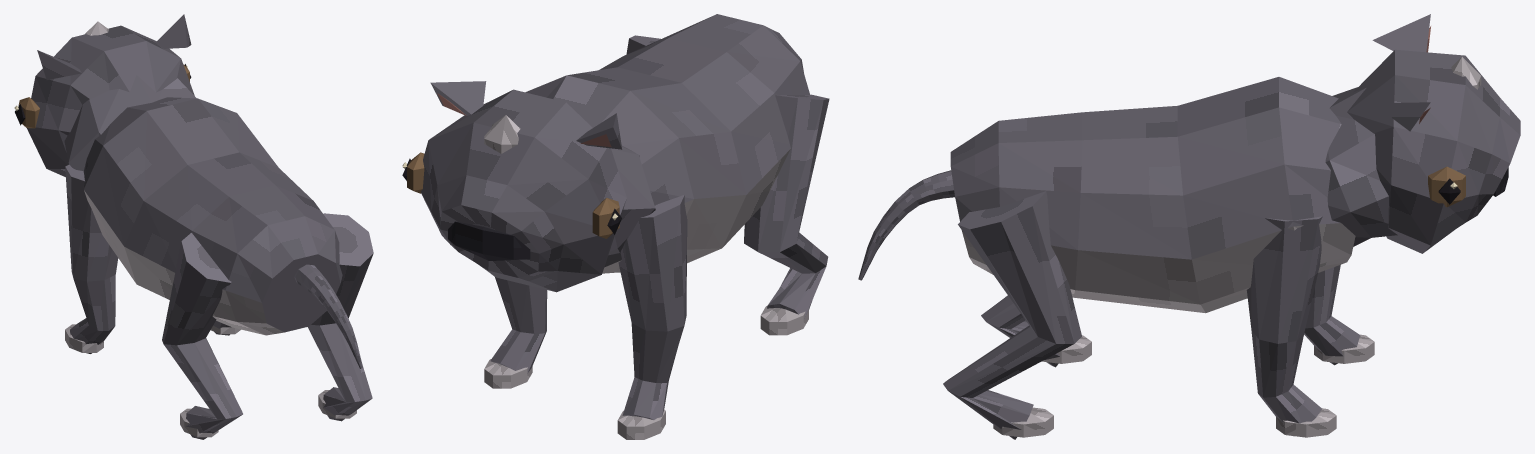
File: mon_dog_pitbullmix_pup.glb
3 renders of one model, left to right at view 1: azimuth 30°, elevation 25°; view 2: azimuth 150°, elevation 25°; view 3: azimuth 270°, elevation 25°, orthographic. The views are drawn at different scales.
Parts seen in each view (by area): view 1: closed_body; view 2: closed_body; view 3: closed_body.
Part boxes in pixels (box(x1,y1,x2,y2)): closed_body: box(14, 14, 373, 439); closed_body: box(402, 14, 829, 439); closed_body: box(858, 14, 1520, 439).
Size of the model in its own units: 0.1145 by 0.1786 by 0.3098.
Materials: 1 (1 with a texture image).
